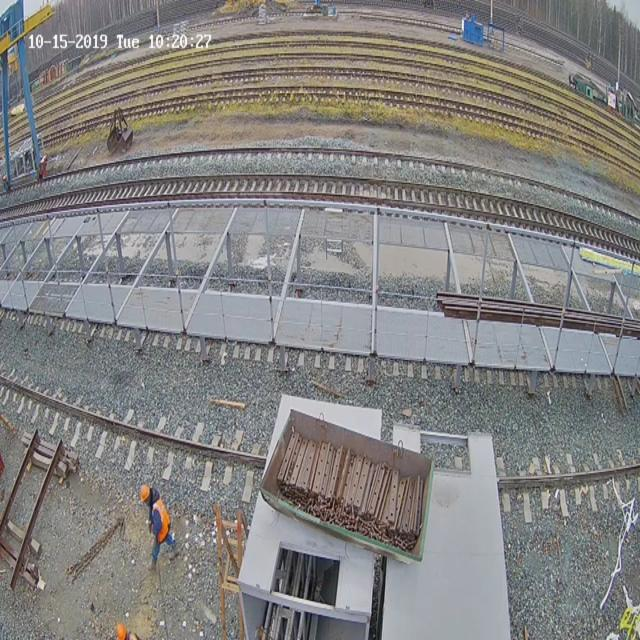Helmet: (109, 622, 129, 640), (140, 484, 150, 502)
Person: (135, 476, 185, 573)
